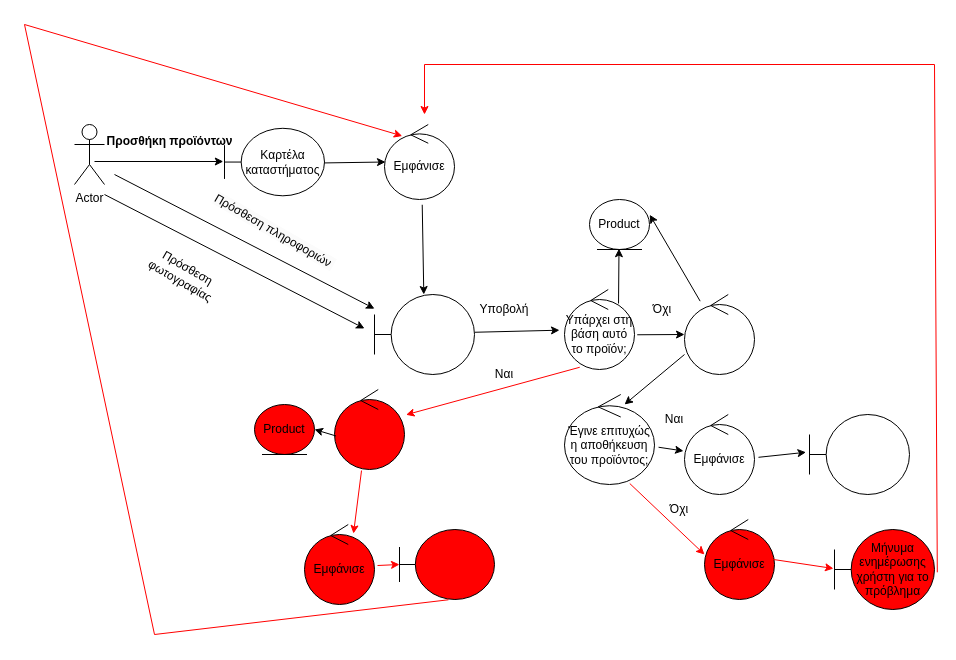
The diagram is 956 pixels wide and 660 high, and some of its shapes have lost their labels. The shapes that lost their labels are listed below. From the top down, each one's box as (x1, y1, x2, y2) in pixels, then its label:
(374, 294, 474, 374): Φόρμα
(684, 294, 754, 374): Αποθήκευση προϊόντων στη βάση
(334, 388, 404, 470): Αύξηση υπάρχουσας ποσότητας στη βάση
(808, 414, 910, 494): Μήνυμα επιτυχημένης προσθήκης
(398, 528, 494, 600): Μήνυμα τροποποίησης
